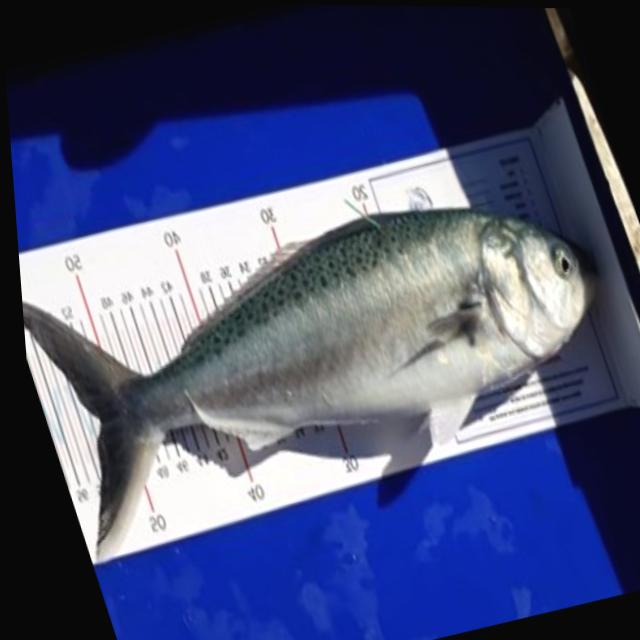Australian Salmon: (6, 98, 640, 597)
